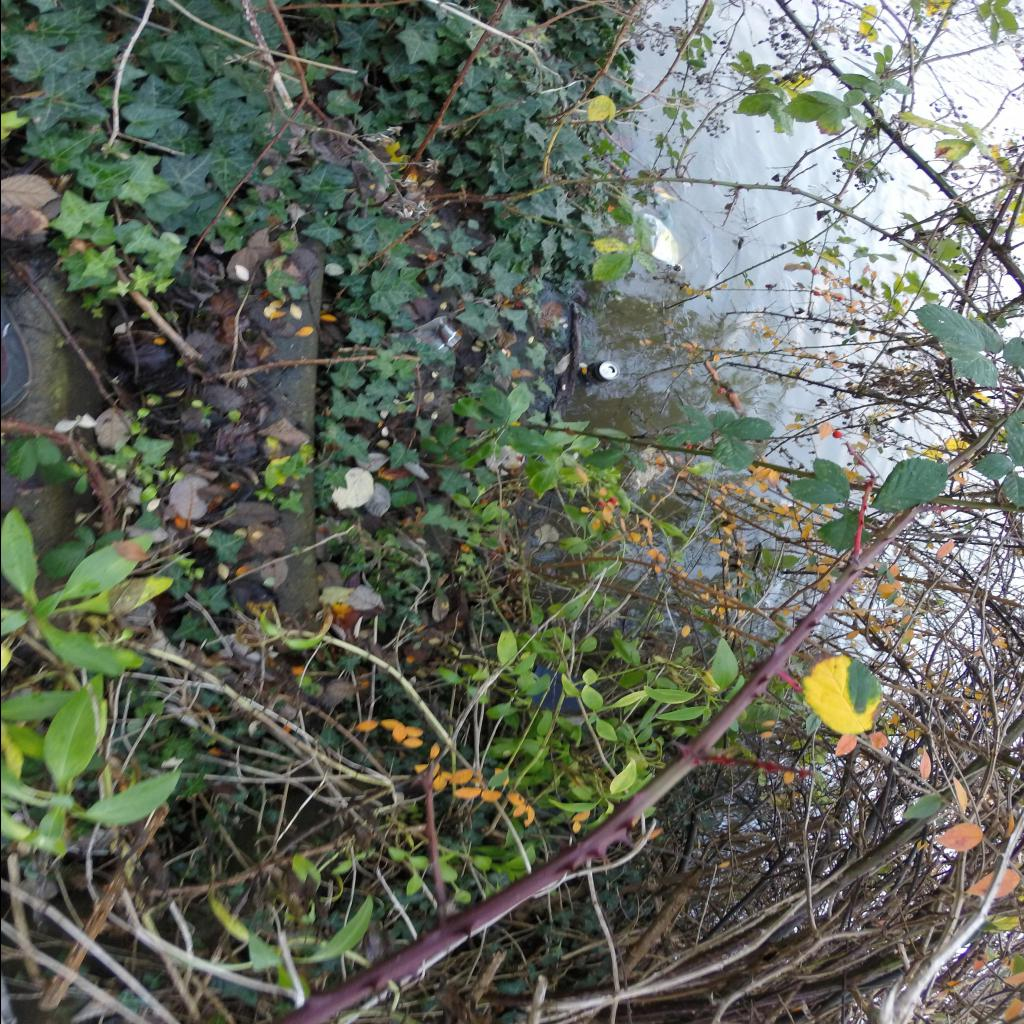Drink can: (586, 360, 620, 384)
Plastic film: (642, 214, 678, 267)
